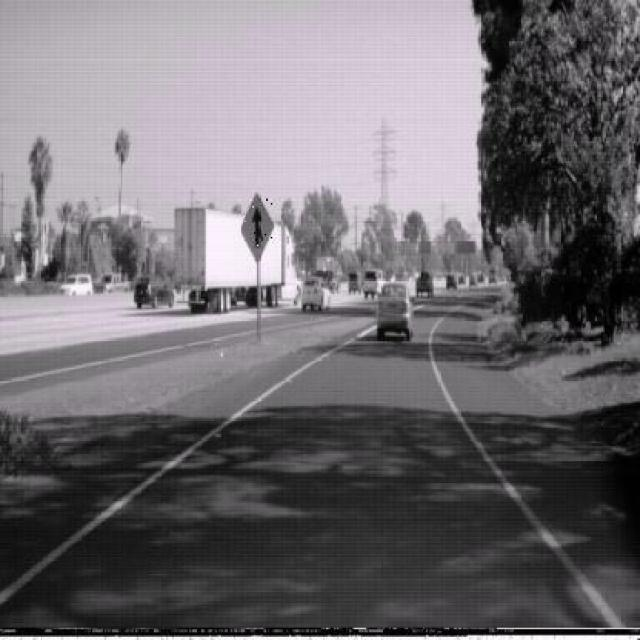merge: (240, 192, 275, 263)
